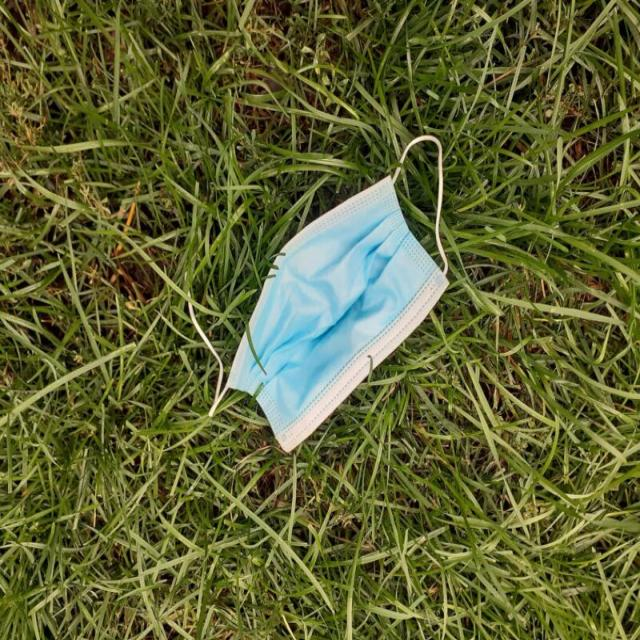non-organic waste: (207, 136, 454, 456)
